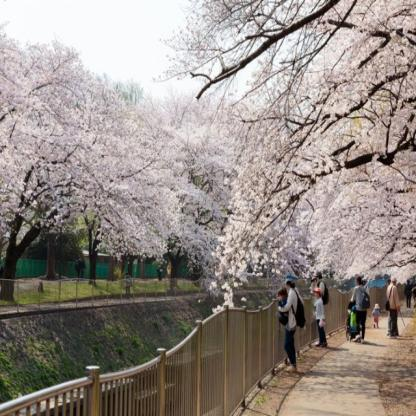Someiyoshino: (1, 29, 239, 280), (215, 2, 415, 280)
